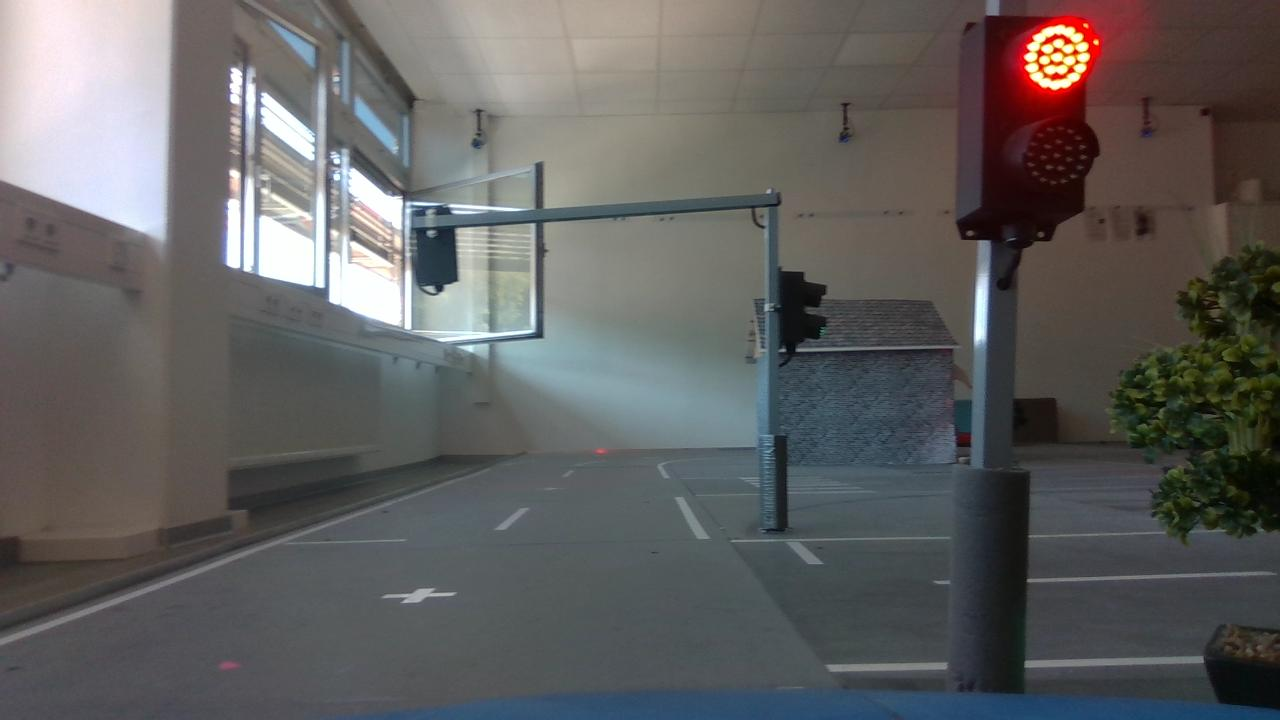traffic_light_red: (943, 10, 1108, 262)
